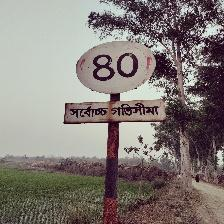Speed-limit: (65, 39, 164, 125)
